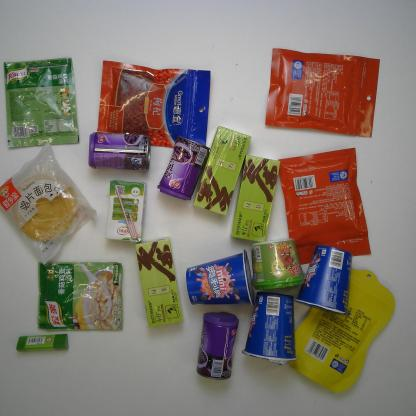Canned Food: (156, 136, 210, 201), (196, 311, 240, 381), (88, 131, 152, 172)
Dessert: (0, 140, 98, 268), (293, 245, 354, 318), (240, 291, 298, 366), (185, 248, 256, 306)
Dried Fruit: (284, 267, 395, 394), (277, 147, 372, 266), (265, 48, 380, 138), (97, 60, 211, 148)
Instant Drink: (192, 126, 252, 216), (229, 154, 281, 244), (134, 236, 184, 328), (249, 237, 307, 291)
Milk: (104, 179, 149, 243)
Seasoner: (3, 58, 80, 148), (37, 261, 124, 332)
Stationery: (15, 333, 69, 353)
